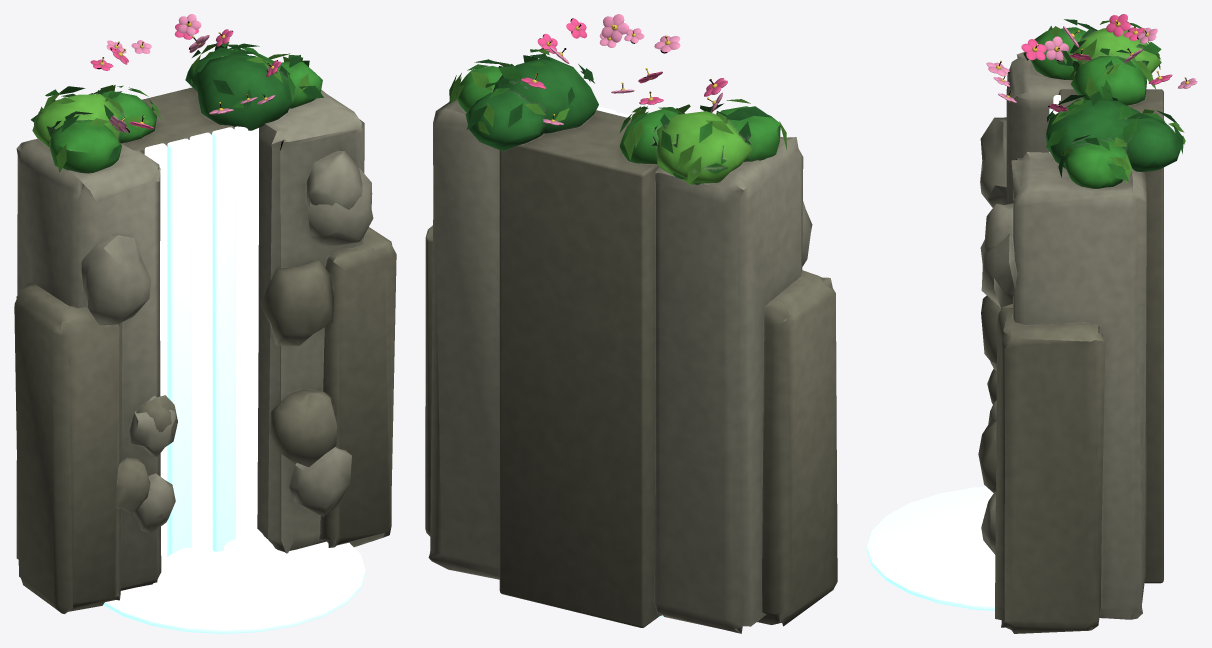
The model's file is tf_waterfall.glb.
3 views of the same model, side by side, from view 1: azimuth 30°, elevation 25°; view 2: azimuth 150°, elevation 25°; view 3: azimuth 270°, elevation 25° (orthographic). The views are drawn at different scales.
Visible parts, largest first — view 1: tf_waterfall; view 2: tf_waterfall; view 3: tf_waterfall.
Boxes of the visible parts, box(x1,y1,x2,y2) form: tf_waterfall: box(14, 14, 396, 633); tf_waterfall: box(425, 14, 837, 633); tf_waterfall: box(866, 14, 1197, 633).
Size of the model in its own units: 15.31 by 22.3 by 12.58.
Materials: 10 (10 with a texture image).
